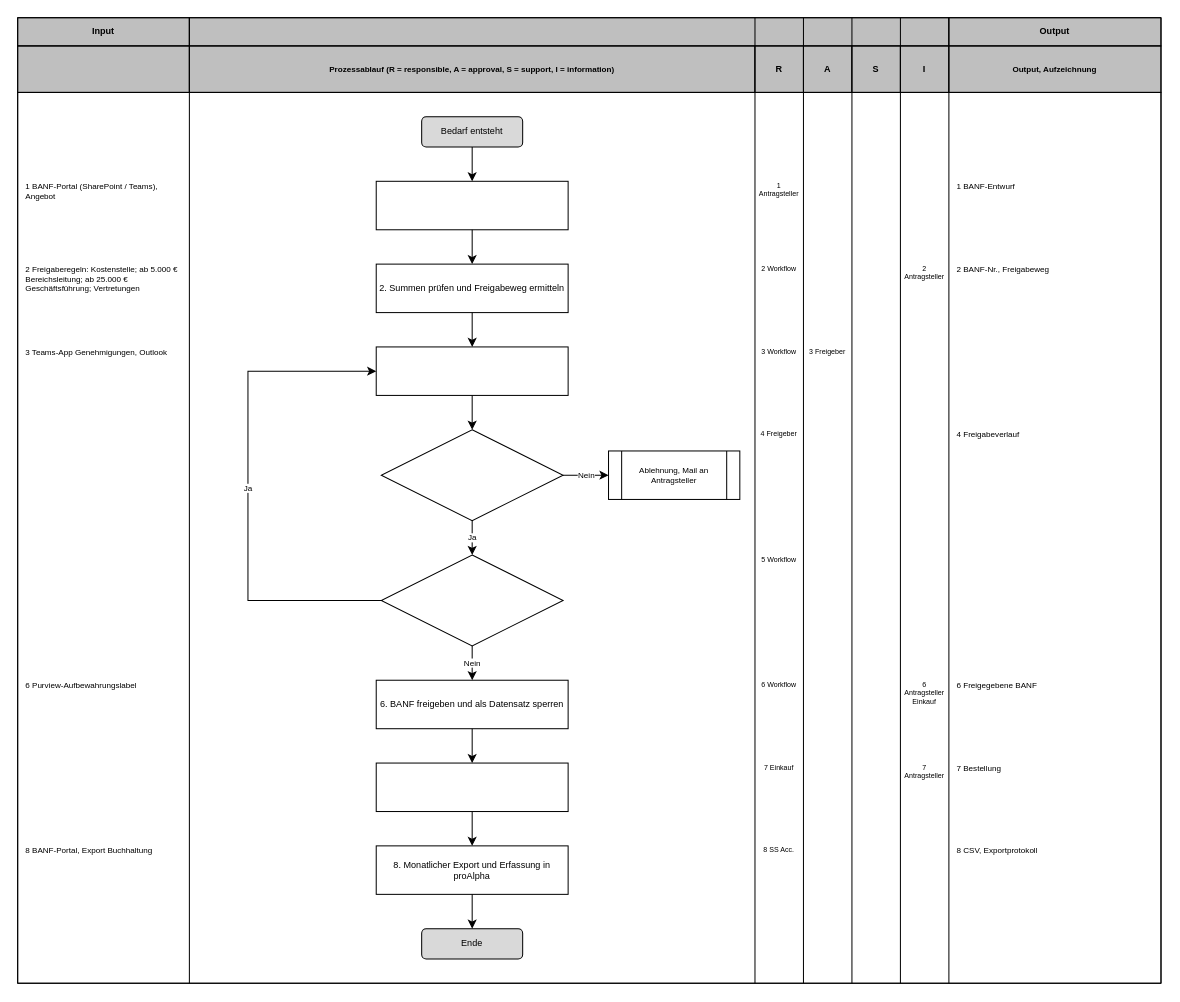
Image size: 1180x1002. Some labels were removed from this diagram. Each missing label, with the centre of its shape:
1. BANF im Portal erfassen (Positionen, Kostenstelle, Lieferant, Angebot): [471,205]
3. Freigabe der nächsten Stufe anfordern: [471,370]
4. Genehmigt?: [471,475]
5. Weitere Stufe nötig?: [471,600]
7. Bestellung beim Lieferanten auslösen: [471,787]
Dokumentation, Tools: [103,68]
Prozess und Verantwortlichkeiten: [568,31]
